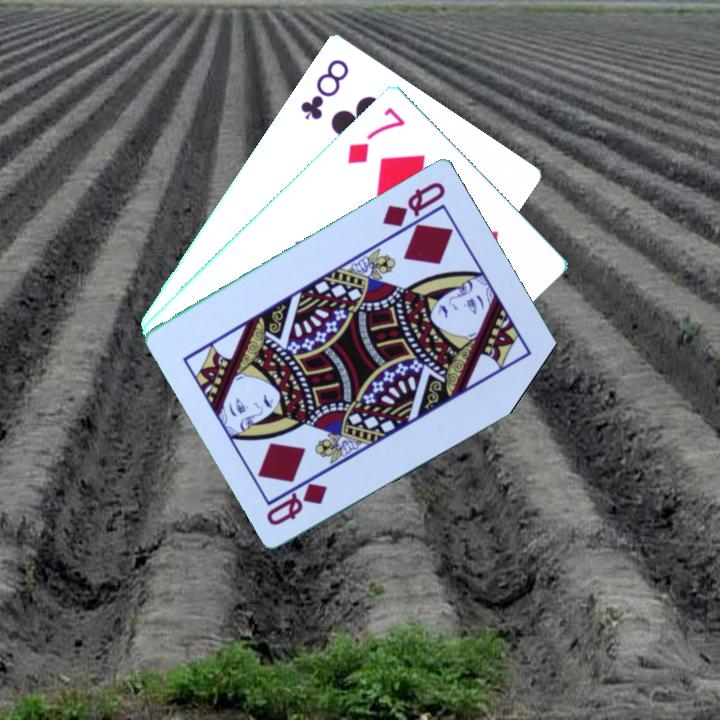7d: (343, 102, 409, 166)
8c: (296, 54, 352, 123)
Qd: (379, 178, 449, 239), (263, 478, 331, 528)
